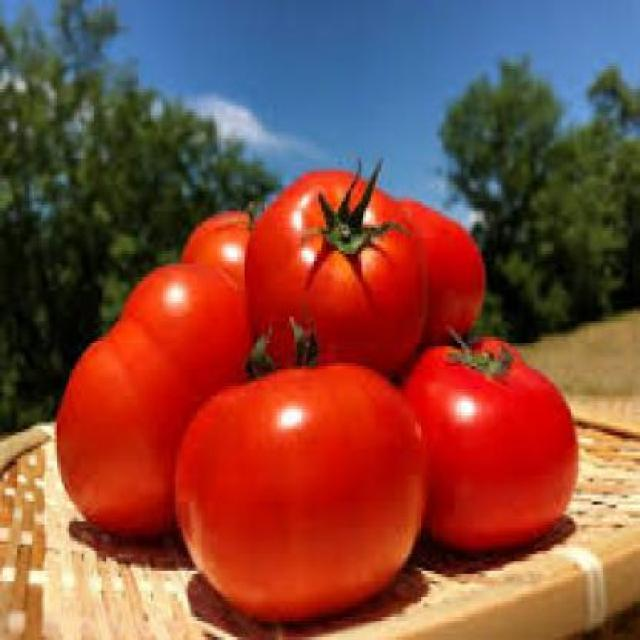kirmizi: (52, 129, 602, 629)
